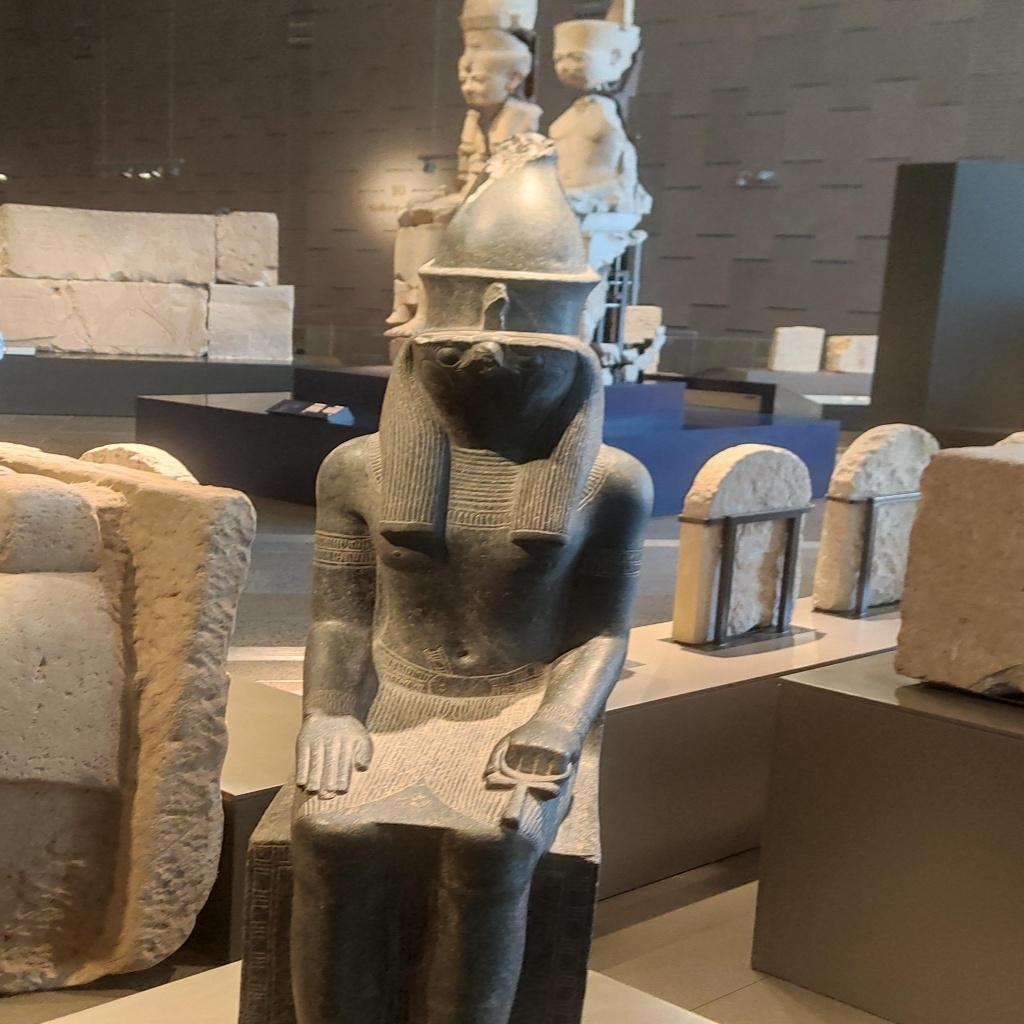Statue of God Ra-Horakhty: (259, 116, 604, 1013)
